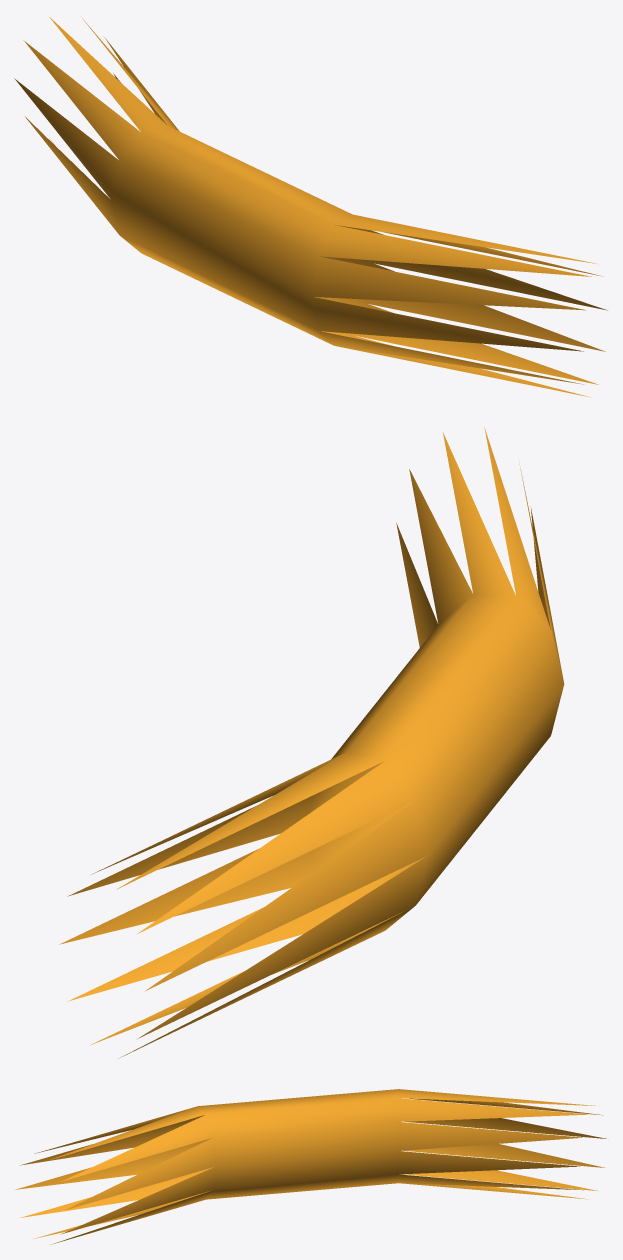
Rendered from TorusChunk_7_2.obj.
The picture shows the model from 3 angles, top to bottom: view 1: azimuth 30°, elevation 25°; view 2: azimuth 150°, elevation 25°; view 3: azimuth 270°, elevation 25°; orthographic projection. The views are drawn at different scales.
Parts seen in each view (by area): view 1: TorusChunk_7_2; view 2: TorusChunk_7_2; view 3: TorusChunk_7_2.
Part boxes in pixels (left/top/right/bottom): TorusChunk_7_2: left=14, top=17, right=607, bottom=397; TorusChunk_7_2: left=59, top=427, right=564, bottom=1058; TorusChunk_7_2: left=15, top=1089, right=606, bottom=1244.
Size of the model in its own units: 0.6075 by 0.27 by 1.71.
